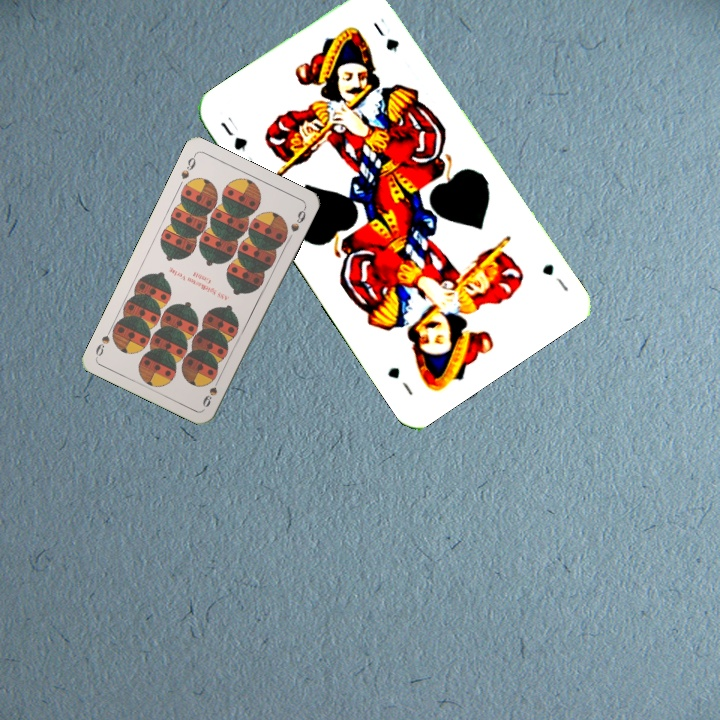GU: (216, 118, 251, 154), (538, 259, 571, 294)
S9: (198, 372, 224, 410), (177, 151, 198, 182)
